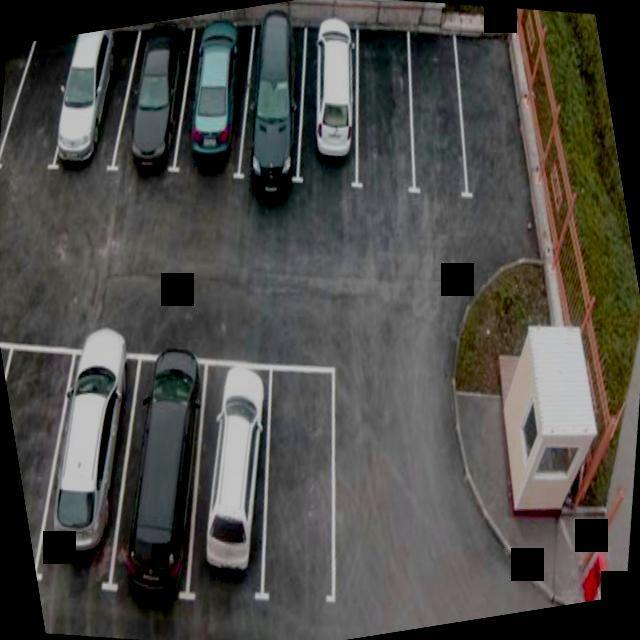space-empty: (217, 350, 389, 631), (0, 321, 97, 578), (427, 23, 557, 208), (326, 21, 442, 202), (381, 20, 491, 205), (0, 35, 93, 171)
space-occupied: (8, 305, 173, 599), (78, 334, 247, 612), (162, 352, 315, 615), (151, 8, 277, 192), (213, 4, 331, 196), (96, 16, 219, 192), (270, 11, 387, 193), (41, 25, 159, 180)
